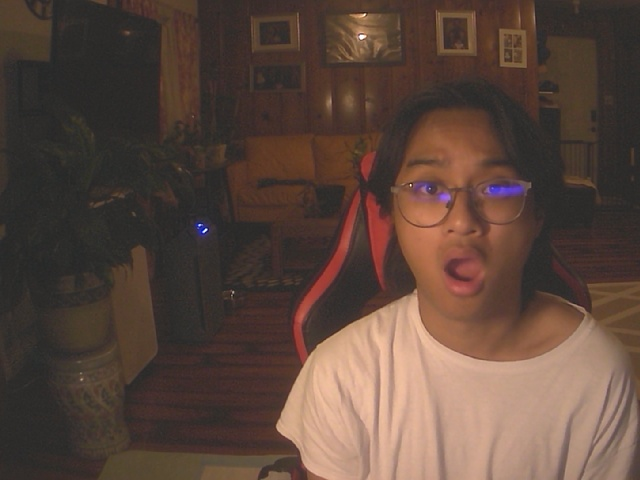fear: (366, 76, 565, 324)
